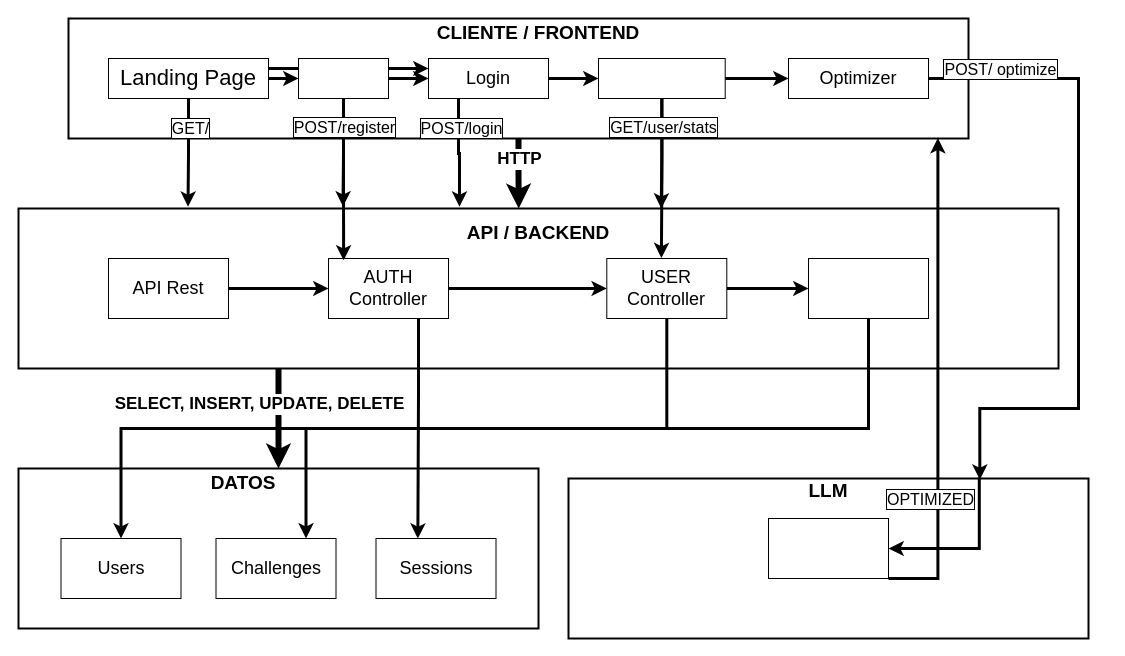
Some shapes in this 1125 by 656 pixel diagram are drawn without their labels. Here are the shapes that lost their labels. From the top down, the centre of each, then its label:
(x=343, y=78): Registro
(x=661, y=78): Dashboard
(x=868, y=288): Challenge Controller
(x=828, y=548): Chatbot
